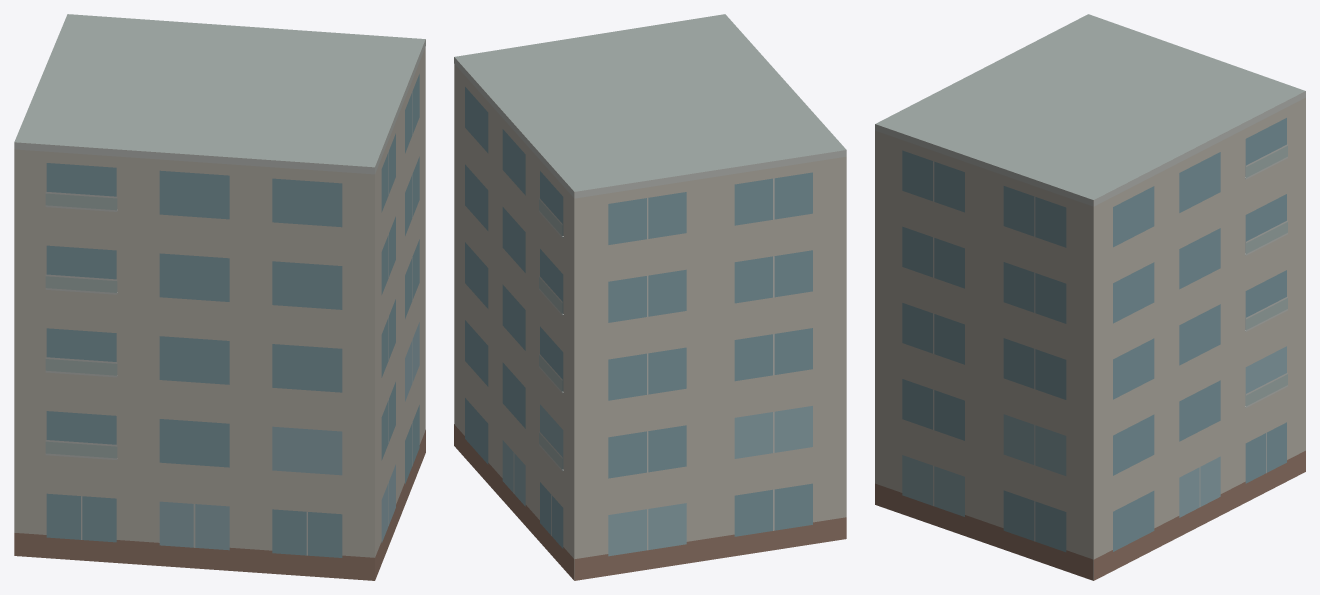
Rendered from survey-upis-32879944.glb.
3 renders of one model, left to right at view 1: azimuth 30°, elevation 25°; view 2: azimuth 150°, elevation 25°; view 3: azimuth 270°, elevation 25°, orthographic. The views are drawn at different scales.
Visible parts, largest first — view 1: survey-upis-32879944.tmp; view 2: survey-upis-32879944.tmp; view 3: survey-upis-32879944.tmp.
Boxes of the visible parts, <box> form: survey-upis-32879944.tmp: <box>14,14,425,580</box>; survey-upis-32879944.tmp: <box>454,14,846,580</box>; survey-upis-32879944.tmp: <box>875,14,1305,580</box>.
Size of the model in its own units: 14.9 by 14.2 by 14.57.
